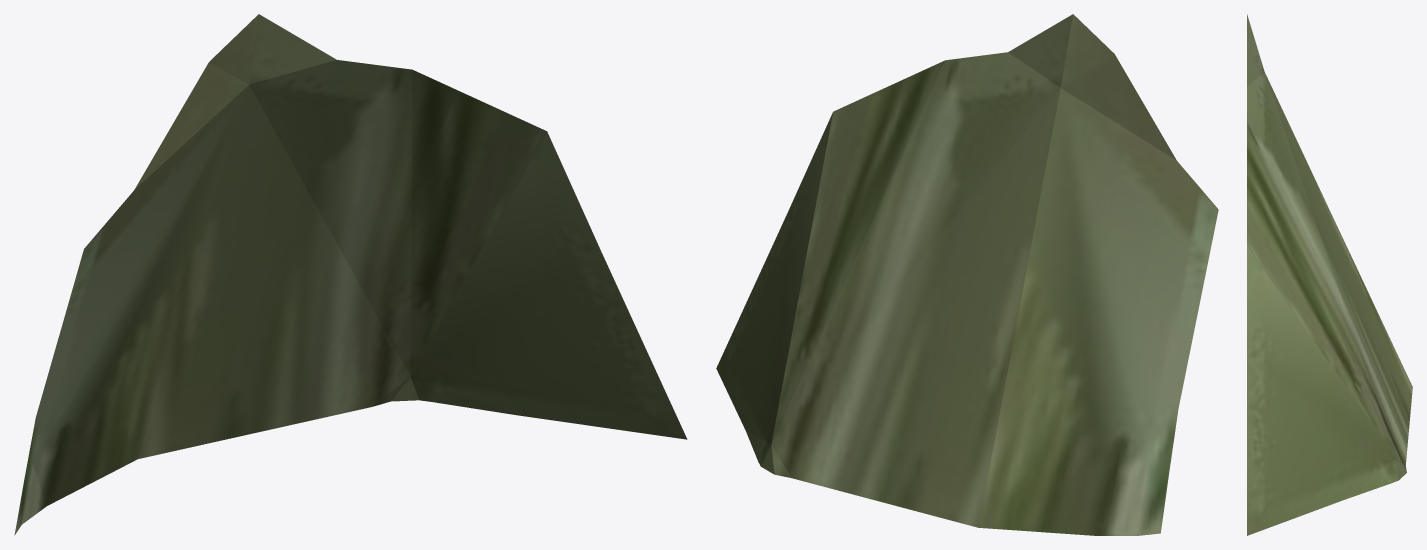
The picture shows the model from 3 angles, left to right: view 1: azimuth 30°, elevation 25°; view 2: azimuth 150°, elevation 25°; view 3: azimuth 270°, elevation 25°; orthographic projection. The views are drawn at different scales.
Bounding box in the file's own units: 2.54 × 2.13 × 0.8544.
Materials: 1 (1 with a texture image).
